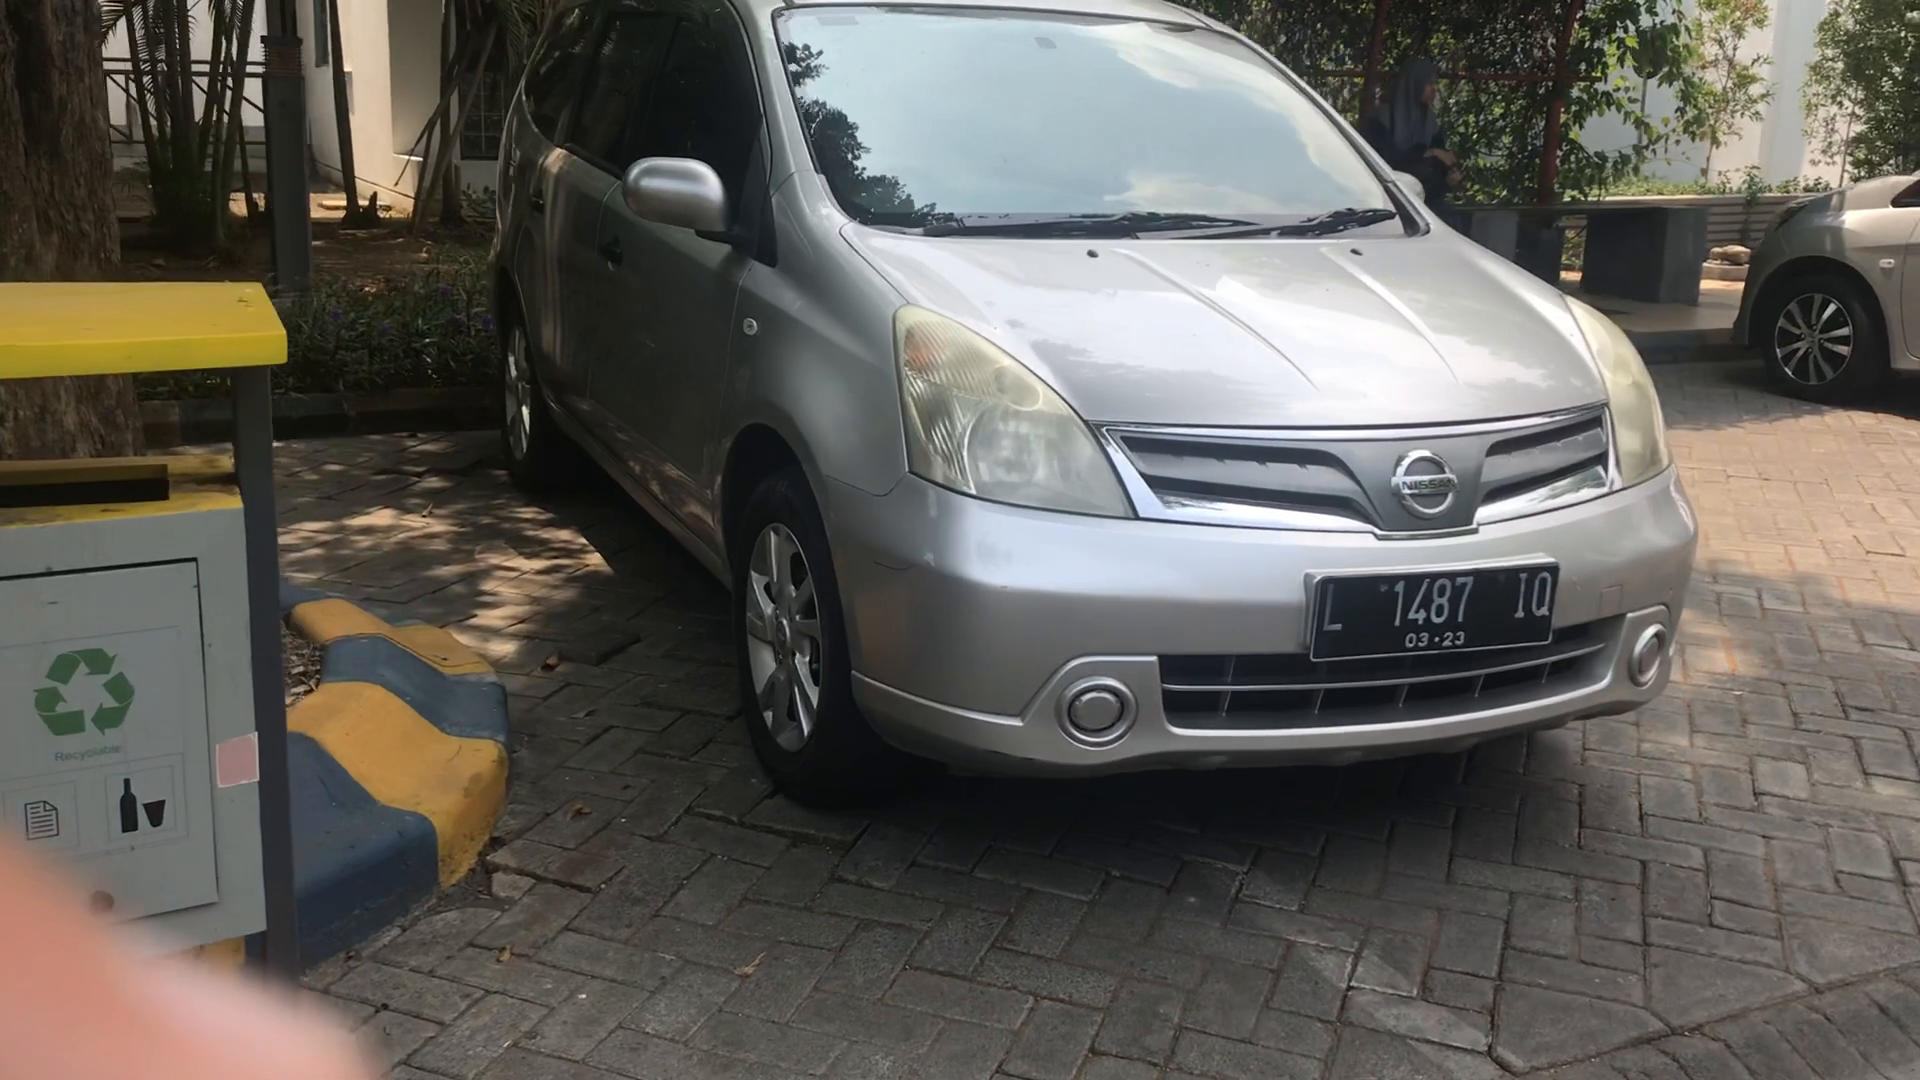plate: (1317, 572, 1560, 647)
